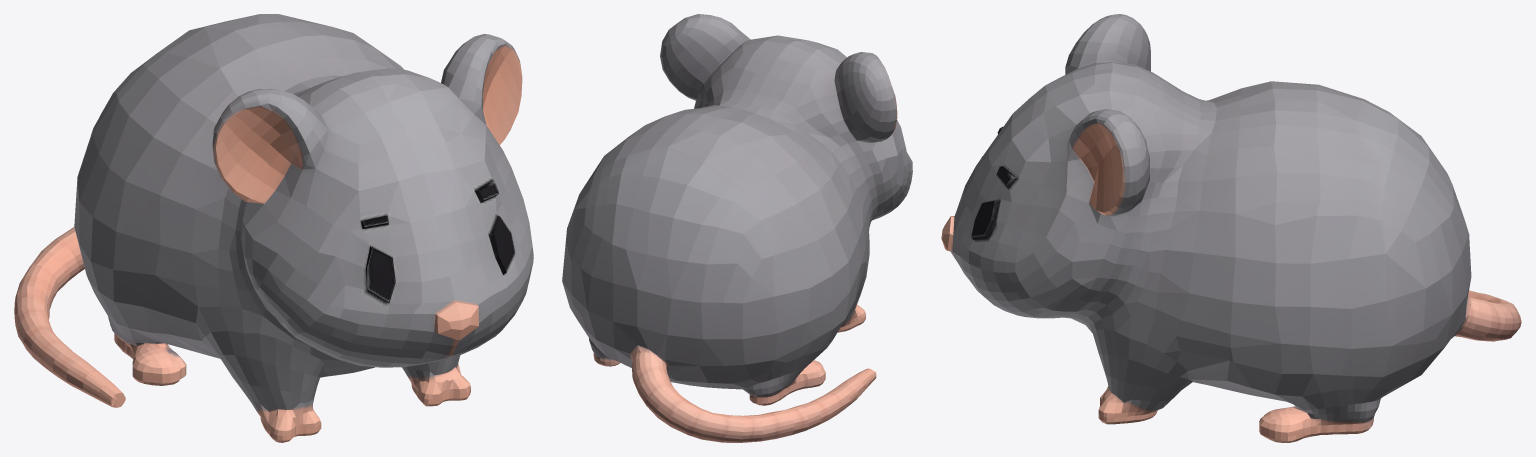
File: rat.glb
The picture shows the model from 3 angles, left to right: view 1: azimuth 30°, elevation 25°; view 2: azimuth 150°, elevation 25°; view 3: azimuth 270°, elevation 25°; orthographic projection. The views are drawn at different scales.
Visible parts, largest first — view 1: Rat; view 2: Rat; view 3: Rat.
Part boxes in pixels (box(x1,y1,x2,y2)): Rat: box(14, 14, 533, 442); Rat: box(562, 14, 912, 442); Rat: box(941, 14, 1521, 442).
Size of the model in its own units: 1.28 by 1.17 by 1.91.
Materials: 1 (1 with a texture image).
